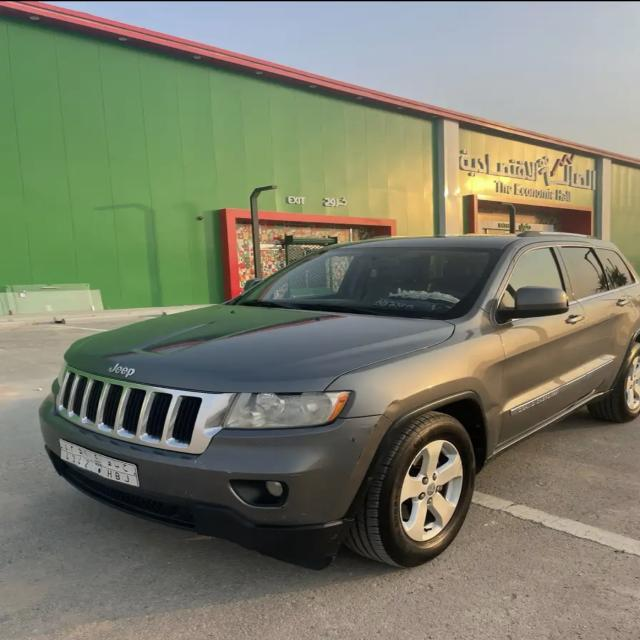license_plate: (58, 438, 141, 489)
